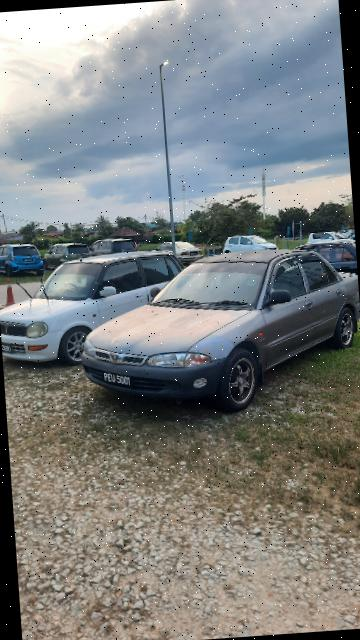License_Plate: (101, 366, 145, 392)
car: (77, 243, 360, 422)
